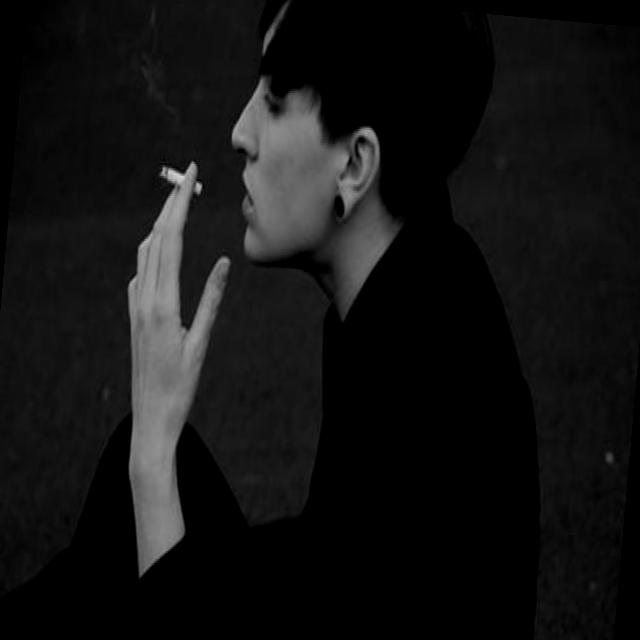smoke: (152, 160, 206, 202)
